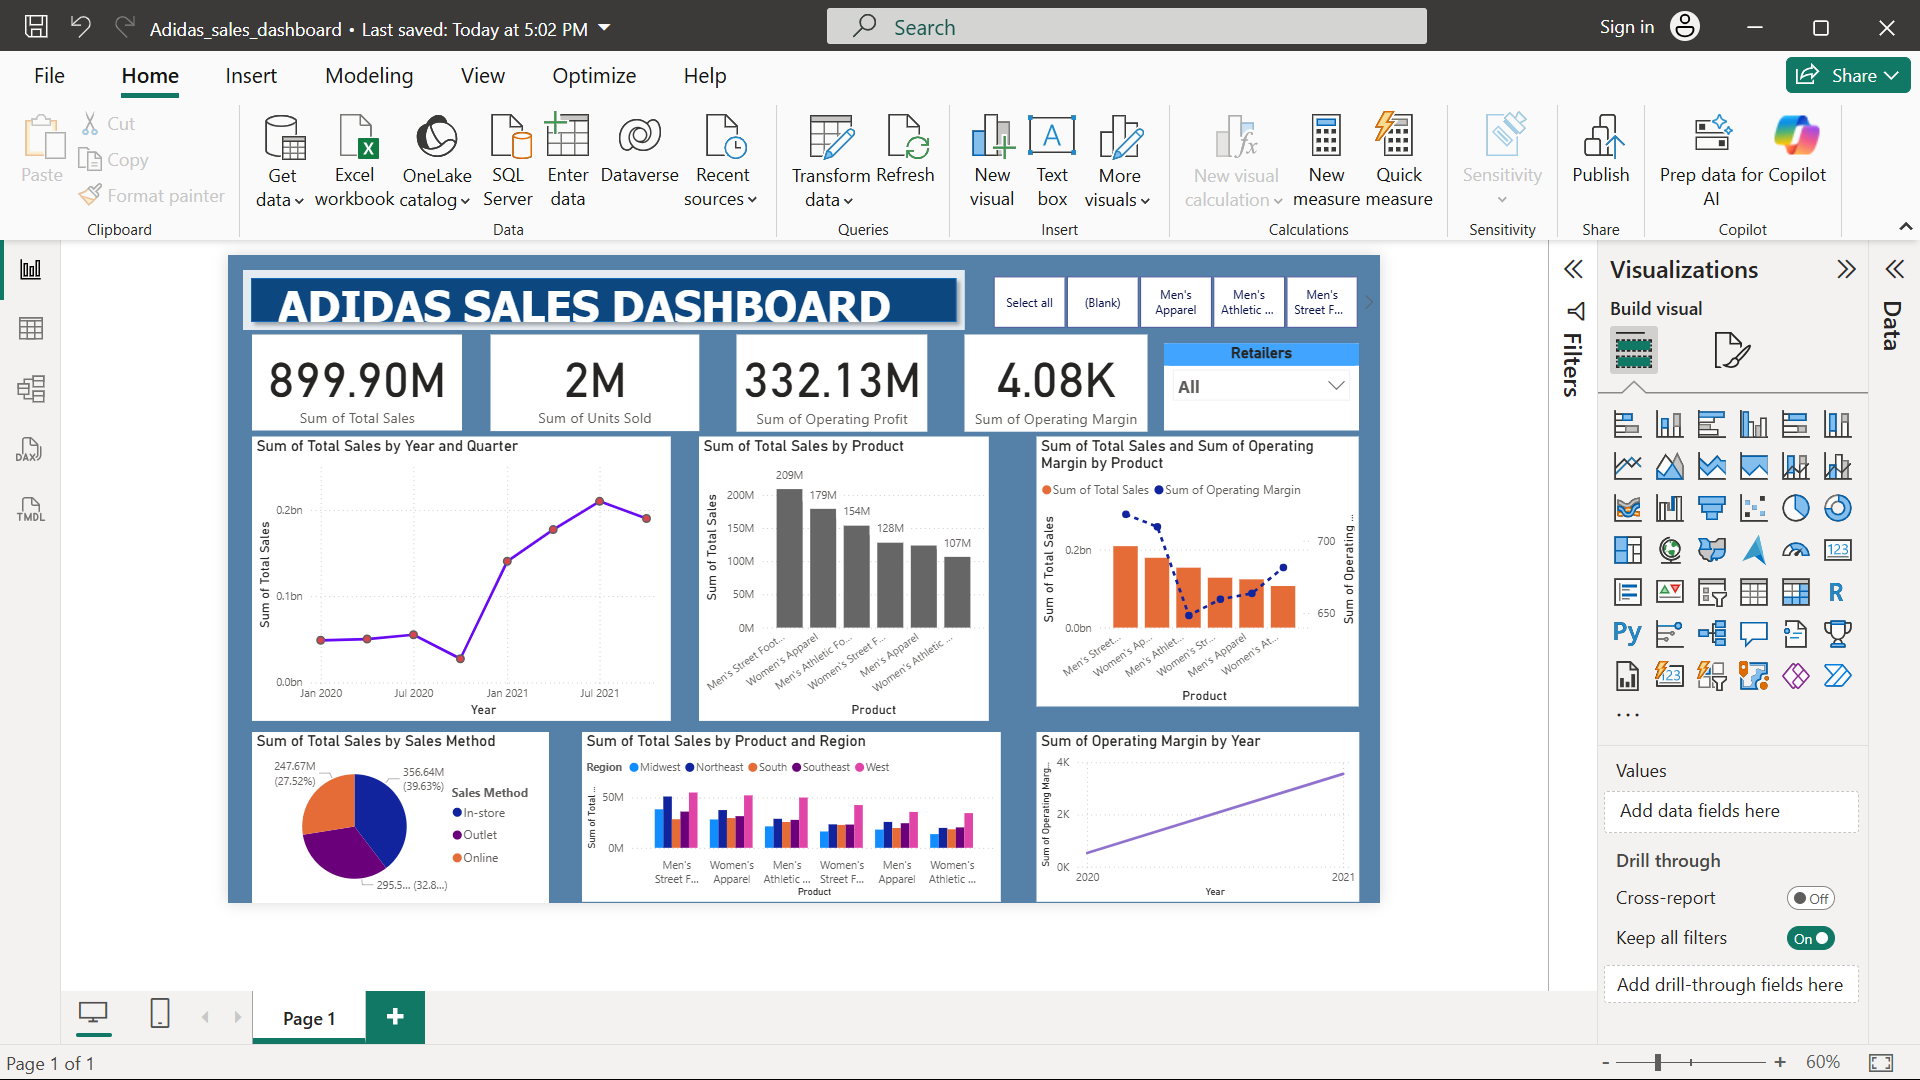

The dashboard page shown, as its layout file describes it:
{"tool":"powerbi","page":{"name":"Page 1","canvas":[1280,720],"ordinal":0},"visuals":[{"type":"shape","box":[16.7,16.7,801.7,66.7],"z":0},{"type":"lineStackedColumnComboChart","fields":{"Category":["Data Sales Adidas.Product"],"Y":["Sum(Data Sales Adidas.Total Sales)"]},"box":[524,202,322,316],"z":1000},{"type":"pieChart","fields":{"Category":["Data Sales Adidas.Sales Method"],"Y":["Sum(Data Sales Adidas.Total Sales)"]},"box":[26.7,530,330,190],"z":2000},{"type":"lineChart","fields":{"Category":["Data Sales Adidas.Invoice Date.Variation.Date Hierarchy.Year","Data Sales Adidas.Invoice Date.Variation.Date Hierarchy.Quarter"],"Y":["Sum(Data Sales Adidas.Total Sales)"]},"box":[27,202,465,316],"z":3000},{"type":"slicer","title":"Retailers","fields":{"Values":["Data Sales Adidas.Retailer","Data Sales Adidas.State"]},"box":[1040,98.3,216.7,96.7],"z":4000},{"type":"card","fields":{"Values":["Sum(Data Sales Adidas.Total Sales)"]},"box":[26.7,88.3,233.3,106.7],"z":5000},{"type":"card","fields":{"Values":["Sum(Data Sales Adidas.Units Sold)"]},"box":[292.2,87.8,231.7,107.5],"z":6000},{"type":"clusteredColumnChart","fields":{"Category":["Data Sales Adidas.Product"],"Y":["Sum(Data Sales Adidas.Total Sales)"],"Series":["Data Sales Adidas.Region"]},"box":[393.3,530,465,188.3],"z":7000},{"type":"slicer","fields":{"Values":["Data Sales Adidas.Product"]},"box":[825.2,16.7,454.3,71.2],"z":8000},{"type":"card","fields":{"Values":["Sum(Data Sales Adidas (2).Operating Profit)"]},"box":[565,88,212,108],"z":9000},{"type":"lineStackedColumnComboChart","fields":{"Category":["Data Sales Adidas.Product"],"Y":["Sum(Data Sales Adidas.Total Sales)"],"Y2":["Sum(Data Sales Adidas.Operating Margin)"]},"box":[898,202,358,300],"z":10000},{"type":"card","fields":{"Values":["Sum(Data Sales Adidas.Operating Margin)"]},"box":[819,88,203,108],"z":11000},{"type":"lineChart","fields":{"Category":["Data Sales Adidas.Invoice Date.Variation.Date Hierarchy.Year","Data Sales Adidas.Invoice Date.Variation.Date Hierarchy.Quarter"],"Y":["Sum(Data Sales Adidas.Operating Margin)"]},"box":[898.3,530,358.3,188.3],"z":12000}]}

Visuals, with their boxes on the page's 1280x720 design canvas (x1, y1, x2, y2). These are canvas units, not pixel positions in the 1920x1080 screenshot, which may show the page scaled, cropped or inside an application window:
shape: 17:17:818:83
lineStackedColumnComboChart - Data Sales Adidas.Product x Sum(Data Sales Adidas.Total Sales): 524:202:846:518
pieChart - Data Sales Adidas.Sales Method x Sum(Data Sales Adidas.Total Sales): 27:530:357:720
lineChart - Data Sales Adidas.Invoice Date.Variation.Date Hierarchy.Year x Data Sales Adidas.Invoice Date.Variation.Date Hierarchy.Quarter: 27:202:492:518
"Retailers" slicer: 1040:98:1257:195
card - Sum(Data Sales Adidas.Total Sales): 27:88:260:195
card - Sum(Data Sales Adidas.Units Sold): 292:88:524:195
clusteredColumnChart - Data Sales Adidas.Product x Sum(Data Sales Adidas.Total Sales): 393:530:858:718
slicer - Data Sales Adidas.Product: 825:17:1280:88
card - Sum(Data Sales Adidas (2).Operating Profit): 565:88:777:196
lineStackedColumnComboChart - Data Sales Adidas.Product x Sum(Data Sales Adidas.Total Sales): 898:202:1256:502
card - Sum(Data Sales Adidas.Operating Margin): 819:88:1022:196
lineChart - Data Sales Adidas.Invoice Date.Variation.Date Hierarchy.Year x Data Sales Adidas.Invoice Date.Variation.Date Hierarchy.Quarter: 898:530:1257:718
